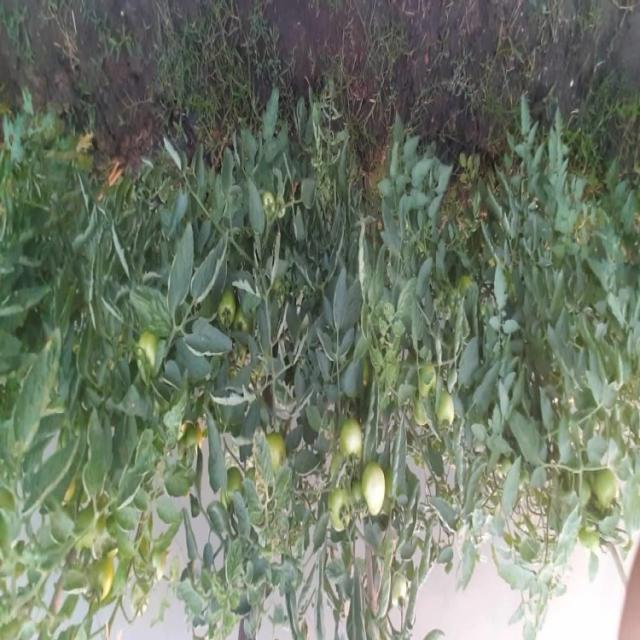tomato: (351, 469, 407, 525), (336, 413, 375, 464), (215, 290, 251, 336), (331, 490, 366, 536), (586, 457, 621, 503), (137, 331, 172, 372), (424, 399, 479, 423), (419, 384, 443, 424)
